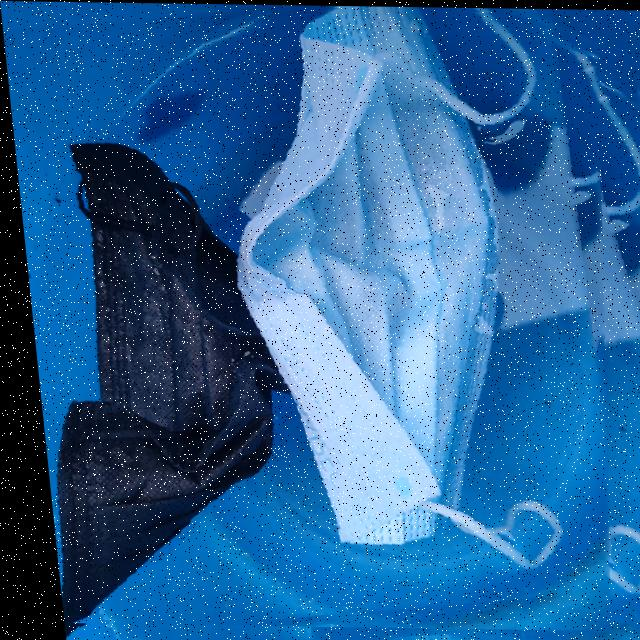litter: (0, 0, 640, 629), (181, 2, 640, 640), (7, 81, 364, 640)
